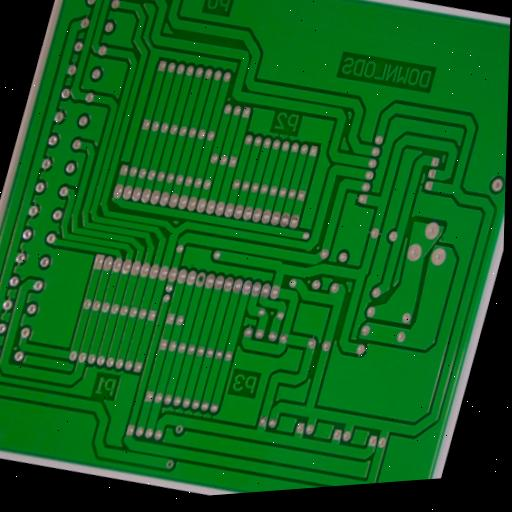missing_hole: (193, 271, 208, 290), (171, 423, 186, 438), (163, 457, 176, 472)
